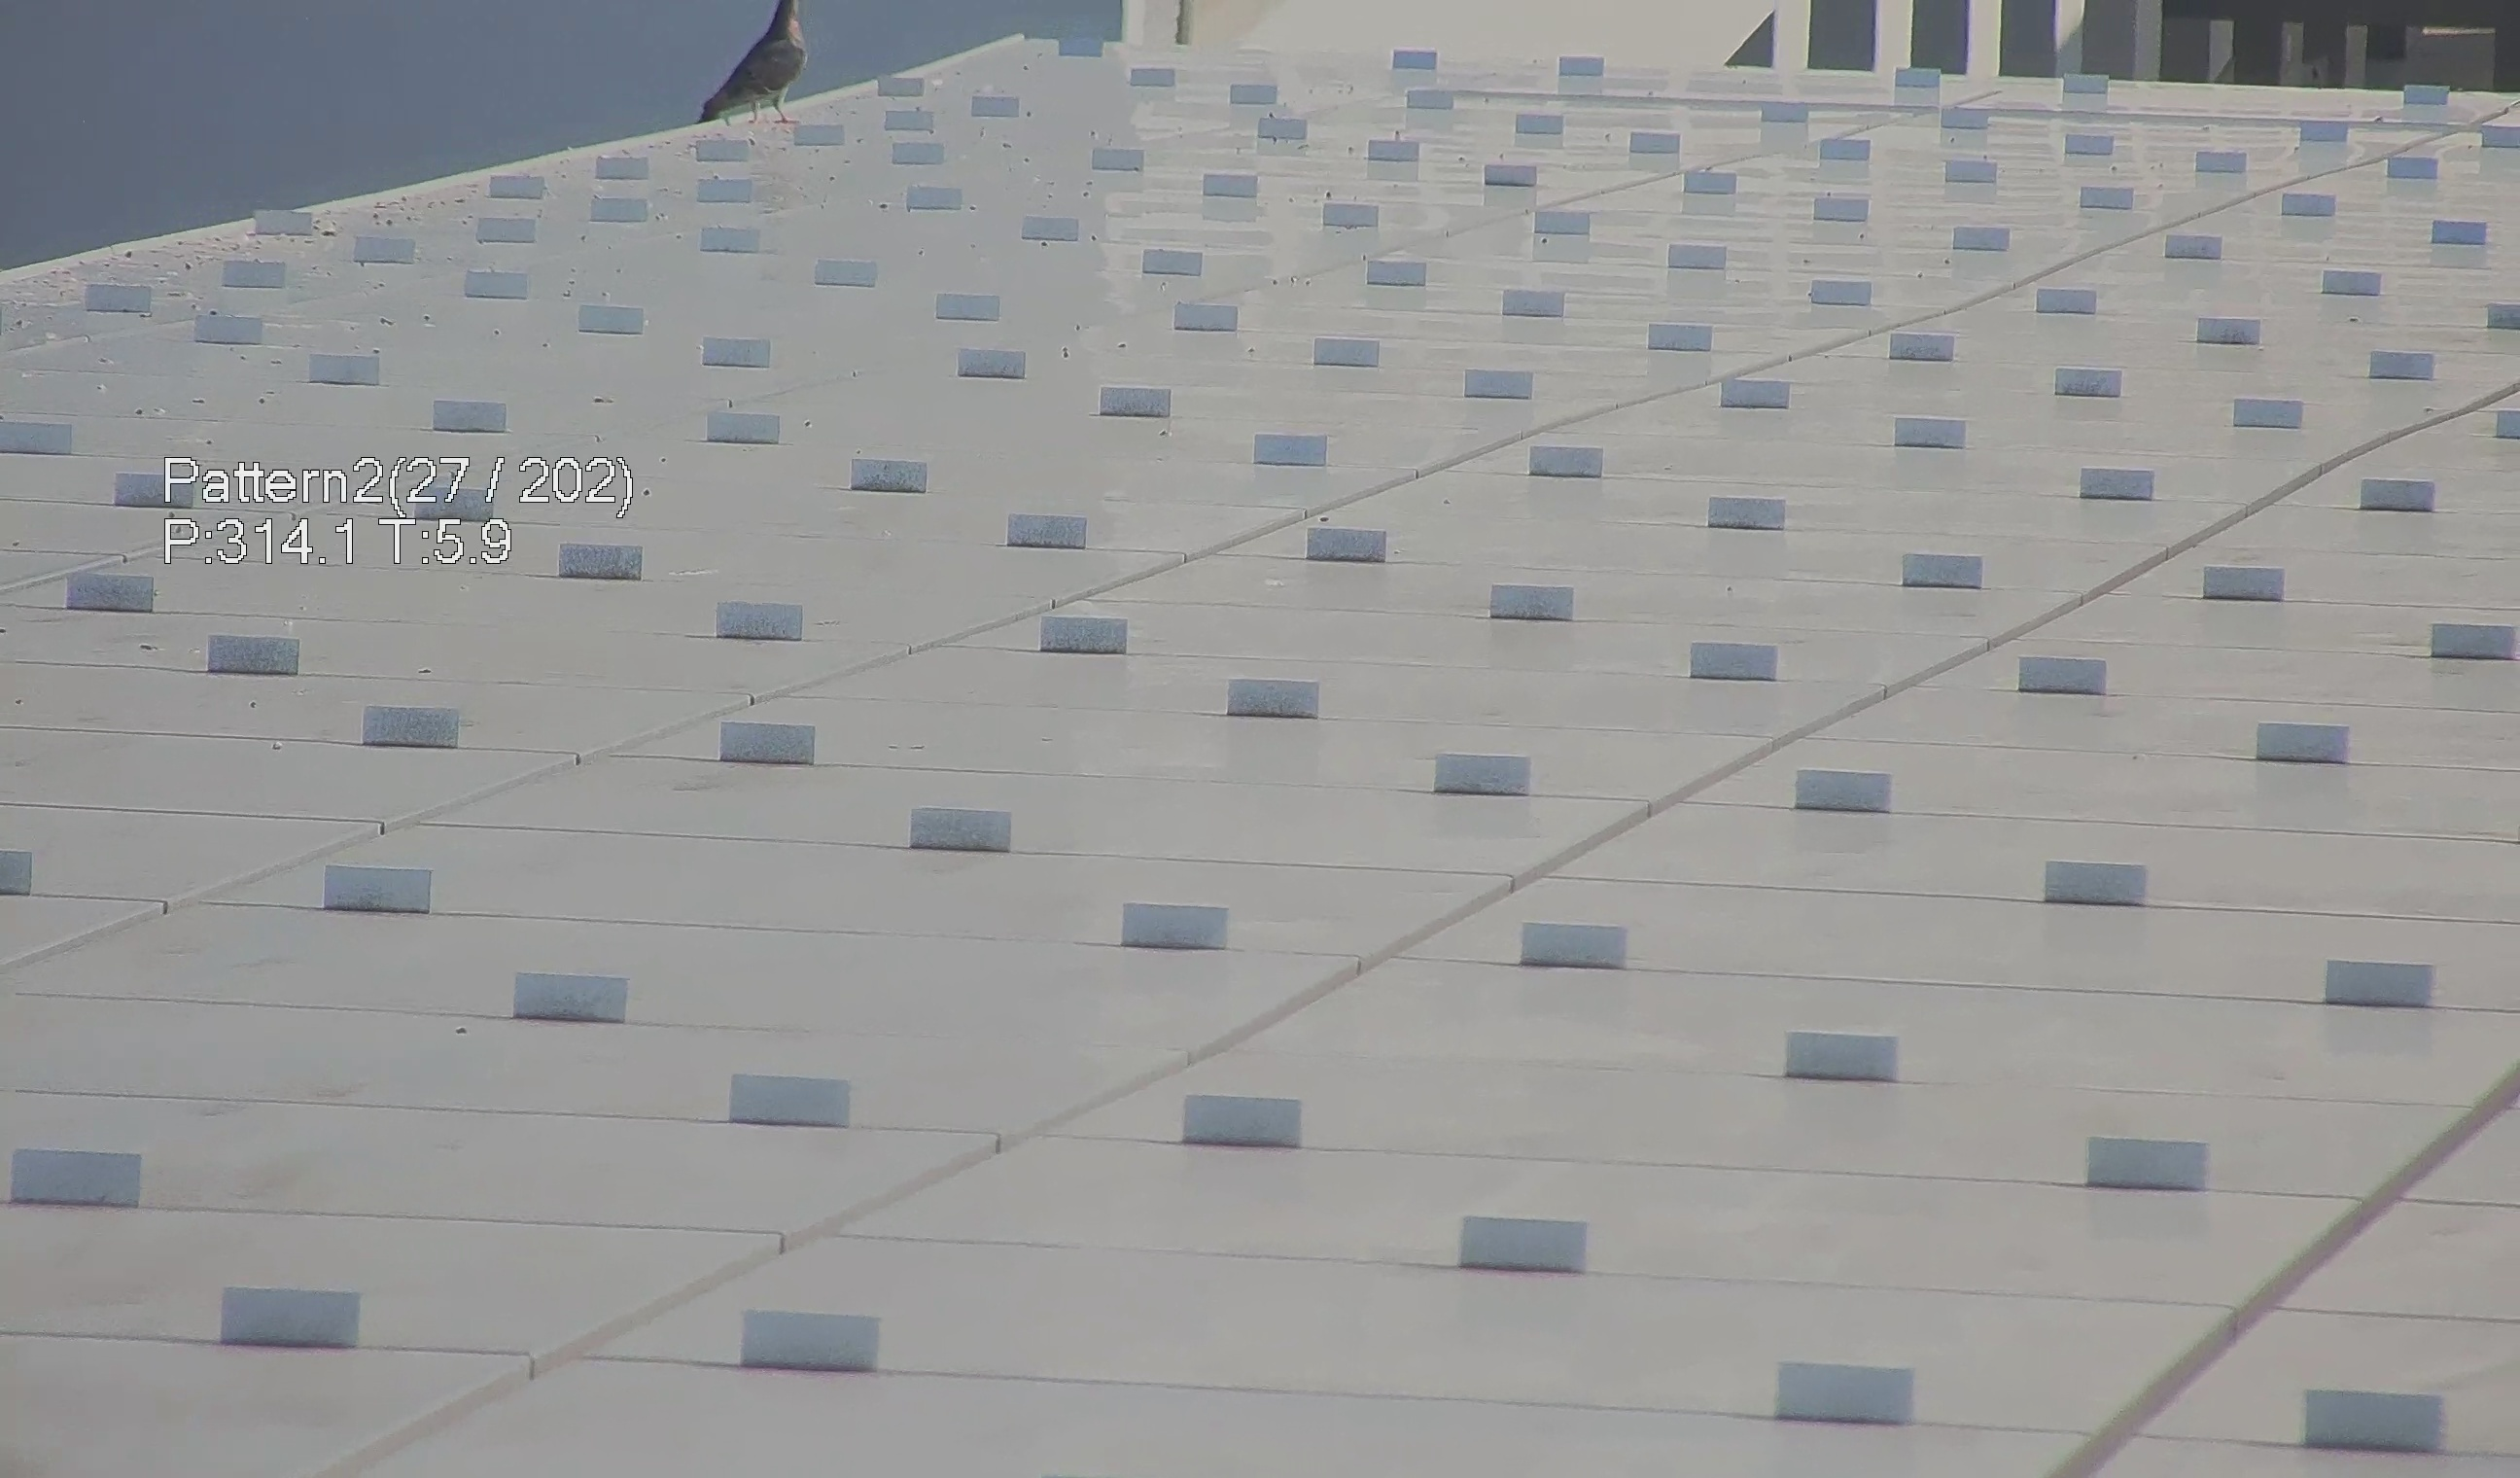Pigeon: (681, 0, 805, 135)
